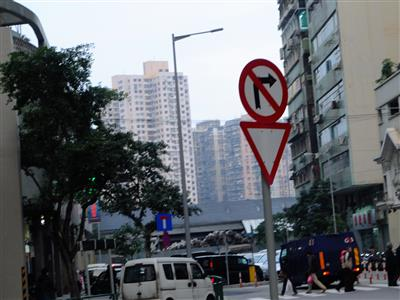deadEnd: (155, 211, 173, 230)
noRightTurn: (237, 57, 288, 122)
noStopping: (160, 230, 170, 249)
yield: (238, 118, 295, 185)
